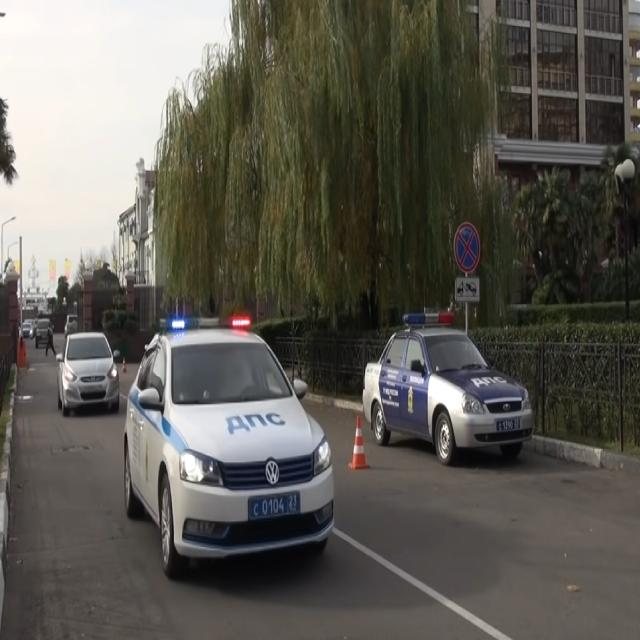non emergency car: (56, 330, 123, 418)
police car: (123, 316, 337, 581), (362, 310, 537, 473)
